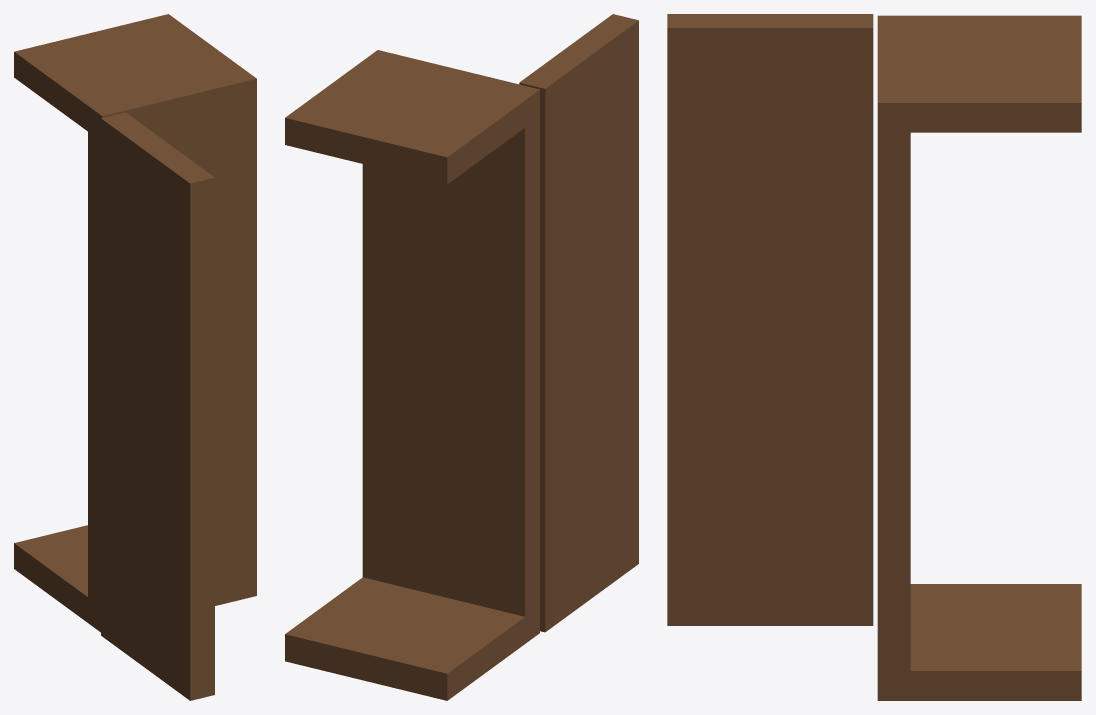
The model's file is pew.glb.
3 renders of one model, left to right at view 1: azimuth 30°, elevation 25°; view 2: azimuth 150°, elevation 25°; view 3: azimuth 270°, elevation 25°, orthographic. The views are drawn at different scales.
Parts seen in each view (by area): view 1: Pew; view 2: Pew; view 3: Pew.
Part boxes in pixels (<box>): Pew: <box>14,14,256,700</box>; Pew: <box>285,14,638,700</box>; Pew: <box>667,14,1081,700</box>.
Bounding box in the file's own units: 0.51 × 1.6 × 1.
